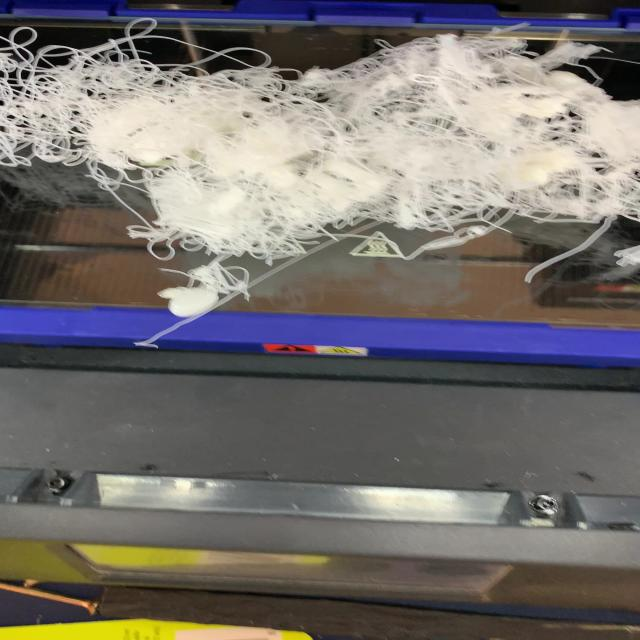spaghetti: (2, 18, 638, 322)
